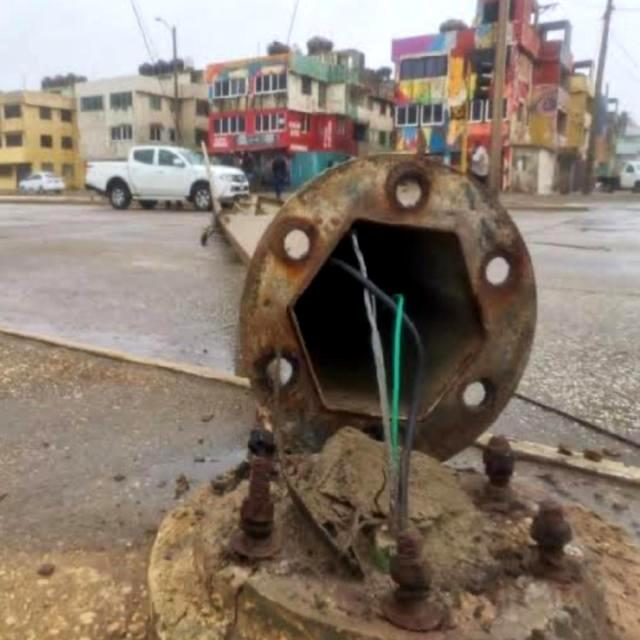Broken Pole: (148, 138, 617, 636)
